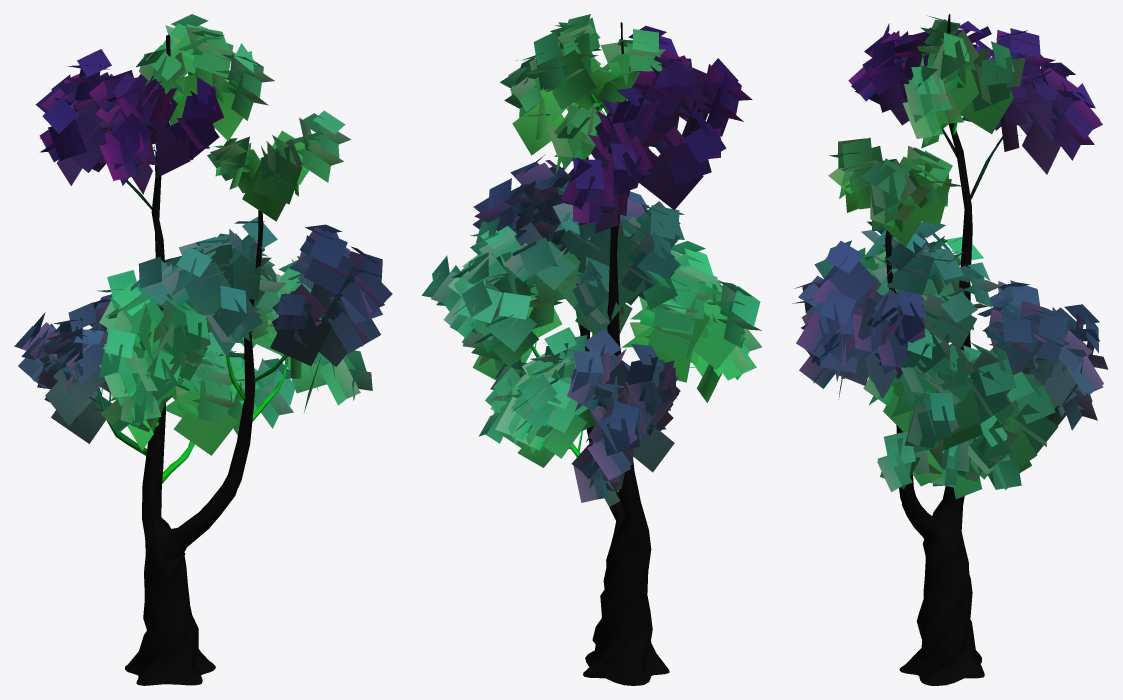
The model's file is Tree_4.fbx.
The picture shows the model from 3 angles, left to right: view 1: azimuth 30°, elevation 25°; view 2: azimuth 150°, elevation 25°; view 3: azimuth 270°, elevation 25°; orthographic projection. The views are drawn at different scales.
Visible parts, largest first — view 1: Tree_2; view 2: Tree_2; view 3: Tree_2.
Part boxes in pixels (left/top/right/bottom): Tree_2: left=14, top=14, right=392, bottom=685; Tree_2: left=422, top=14, right=761, bottom=685; Tree_2: left=792, top=14, right=1108, bottom=685.
Size of the model in its own units: 491 by 956 by 421.
